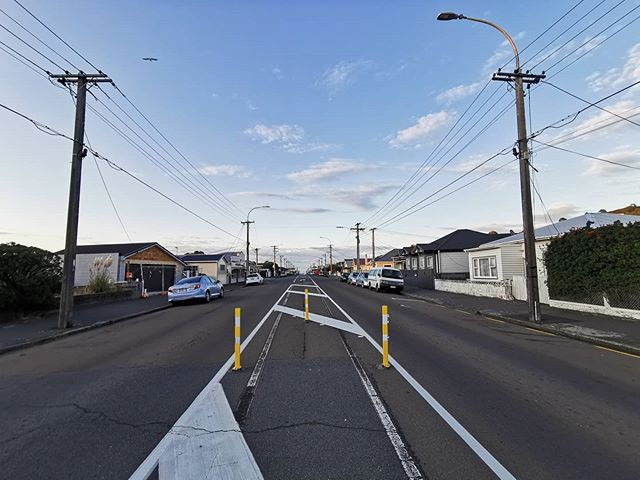building: (468, 214, 640, 318), (60, 245, 185, 303), (391, 233, 494, 286)
car: (163, 272, 230, 303), (365, 266, 404, 298), (241, 273, 266, 289)
light pole: (428, 8, 554, 331)
power pole: (36, 65, 125, 350)
sky: (12, 1, 640, 227)
street: (15, 284, 640, 480)
